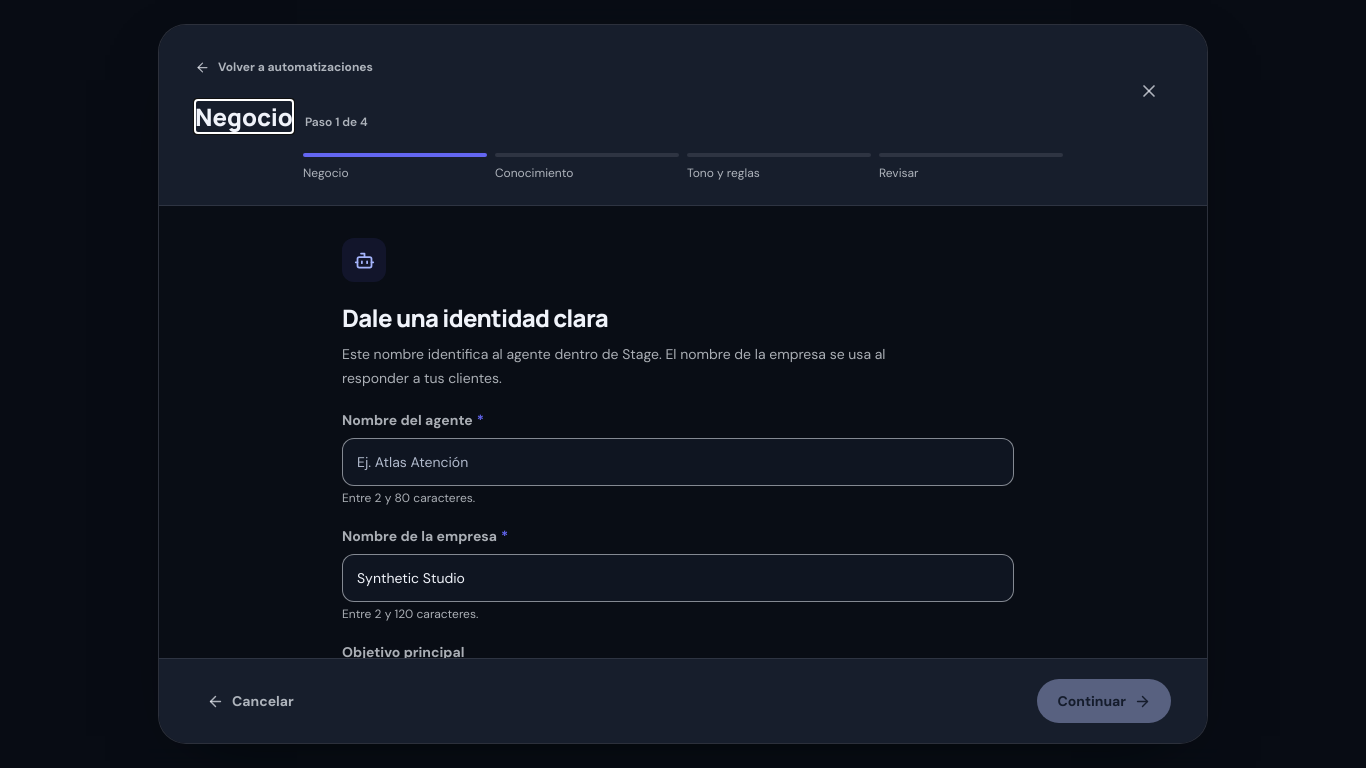
Test case: real component, synthetic services only › gates required fields and has exactly four steps without choosing/connecting channels
Earlier steps of the test are not shown.
Later steps or results of the test are not shown.
Expected: the button "Continuar" is disabled, [1037,679,1171,723]
In the field labelled "Nombre del agente* Entre 2 y 80 caracteres.": (678, 462) [342,438,1014,486], type "Synthetic Agent"
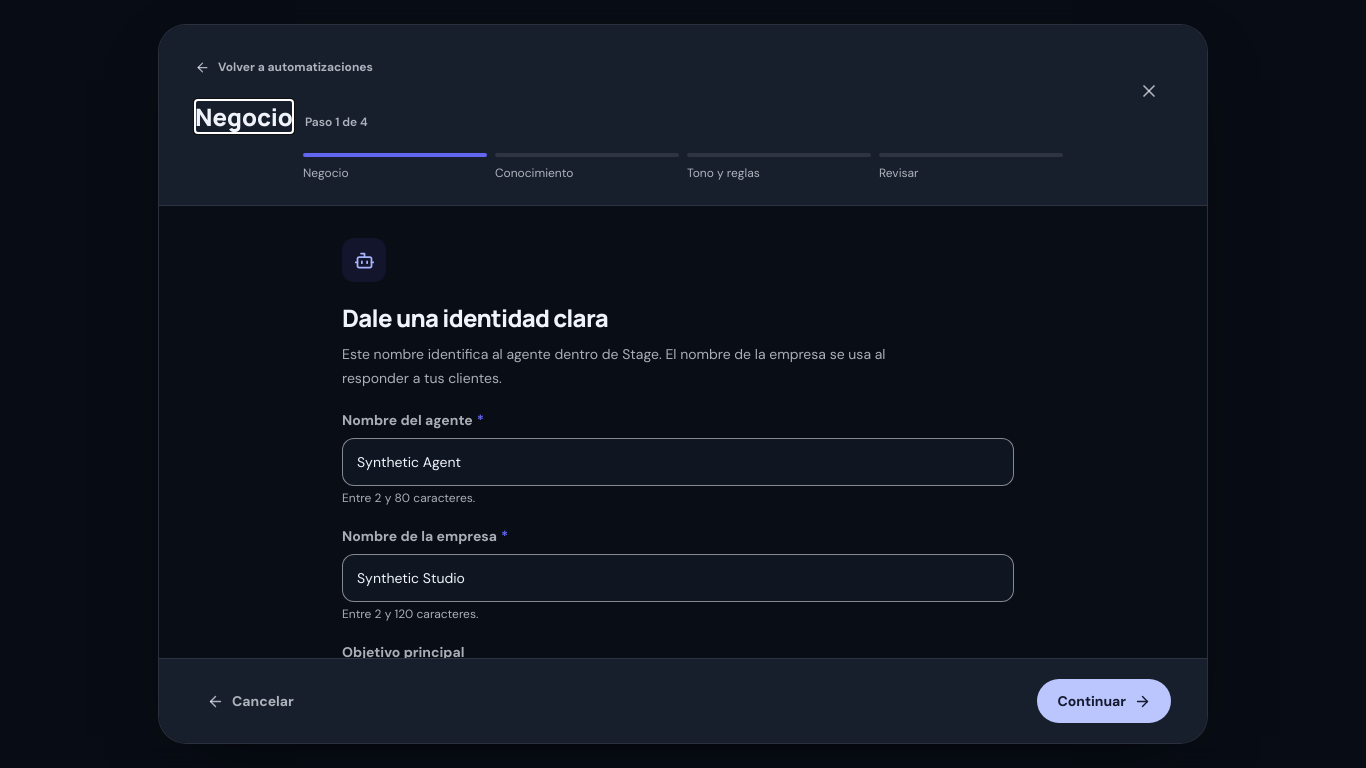
Click the button "Continuar": (1104, 701) [1037,679,1171,723]
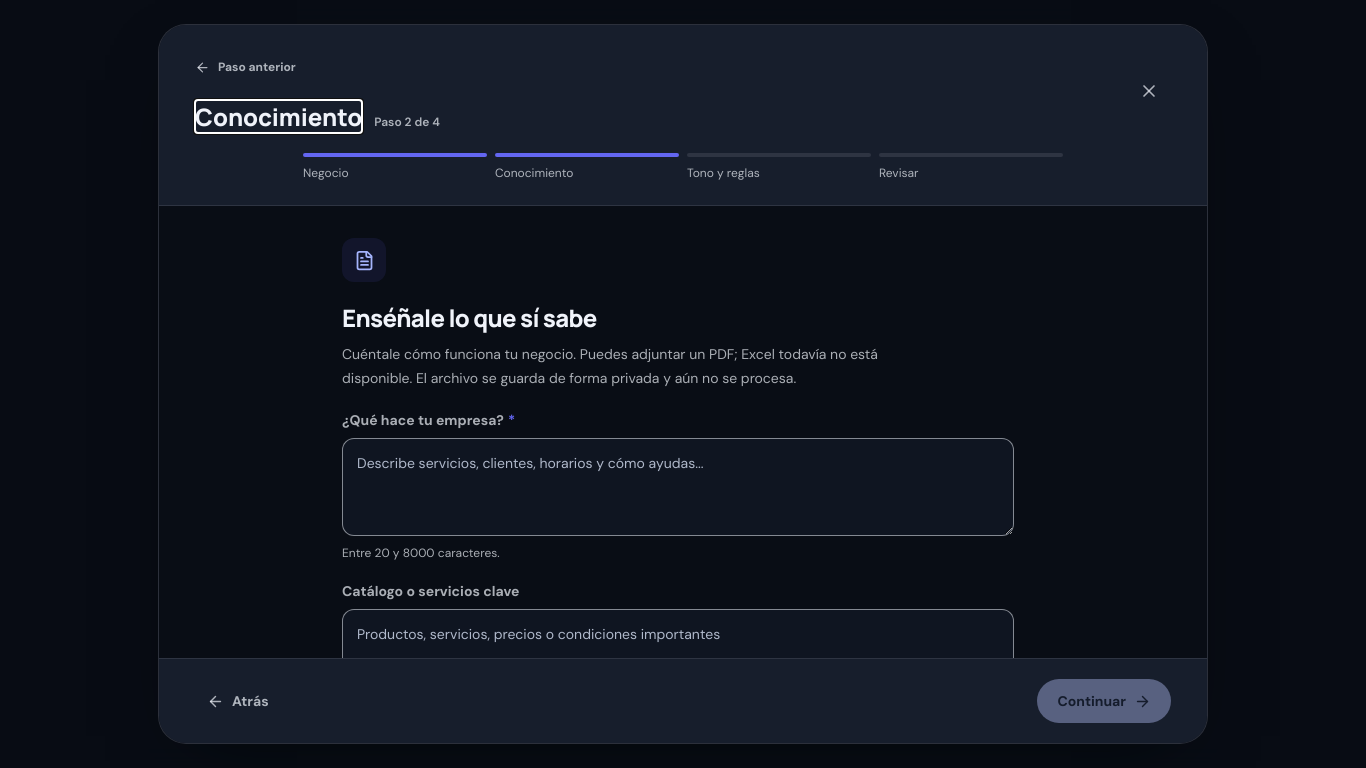
Expected: the button "Continuar" is disabled, [1037,679,1171,723]
In the text box labelled "¿Qué hace tu empresa?* Entre 20 y 8000 caracteres.": (678, 487) [342,438,1014,536], type "short"
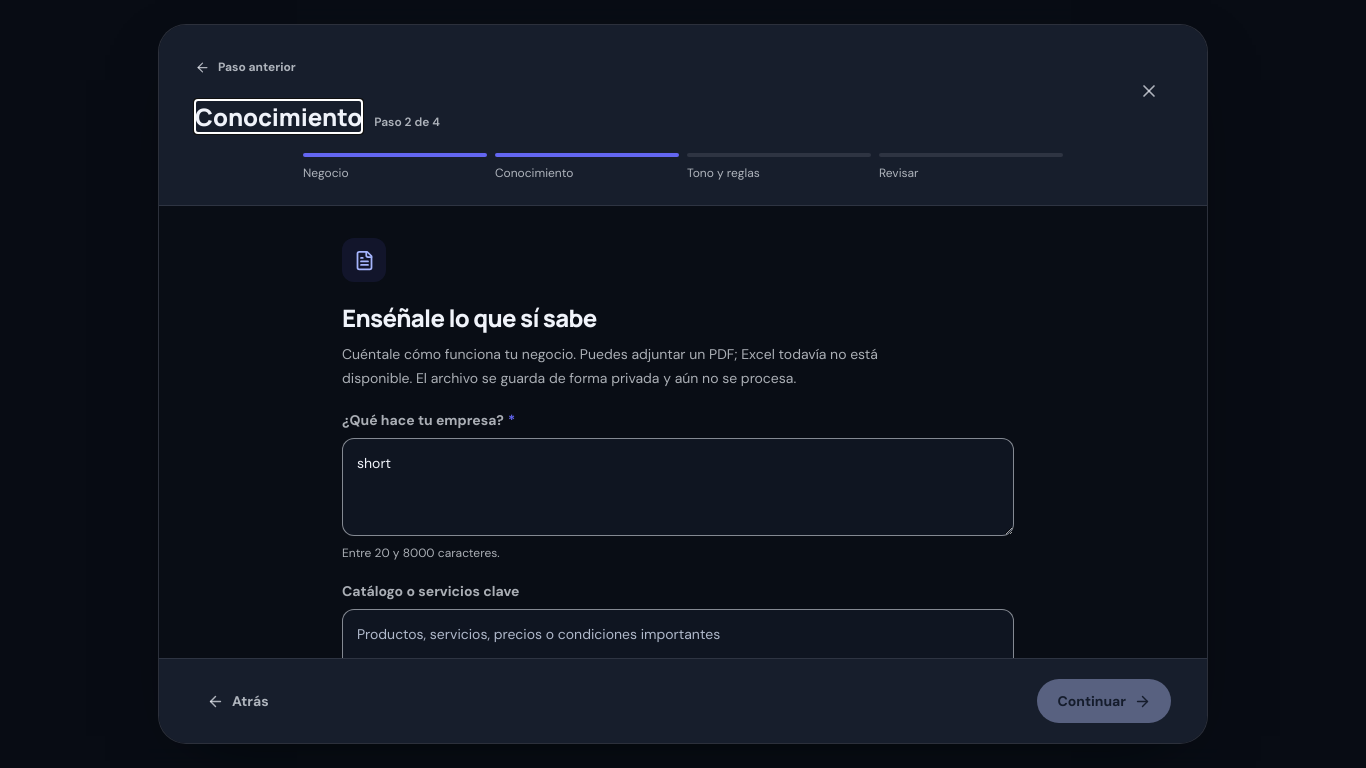
Expected: the button "Continuar" is disabled, [1037,679,1171,723]
Replace the text in the text box labelled "¿Qué hace tu empresa?* Entre 20 y 8000 caracteres." with "Synthetic description of a business.": (678, 487) [342,438,1014,536]
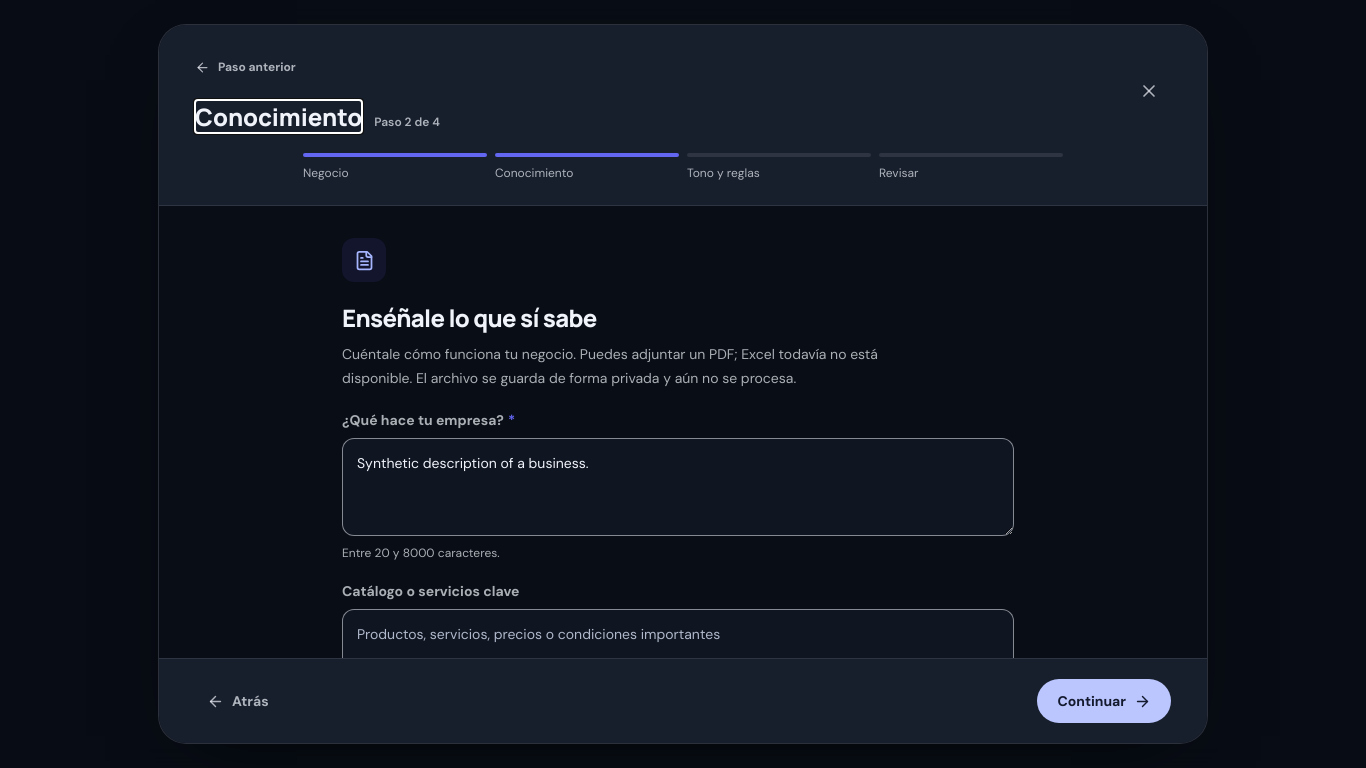
Click the button "Continuar": (1104, 701) [1037,679,1171,723]
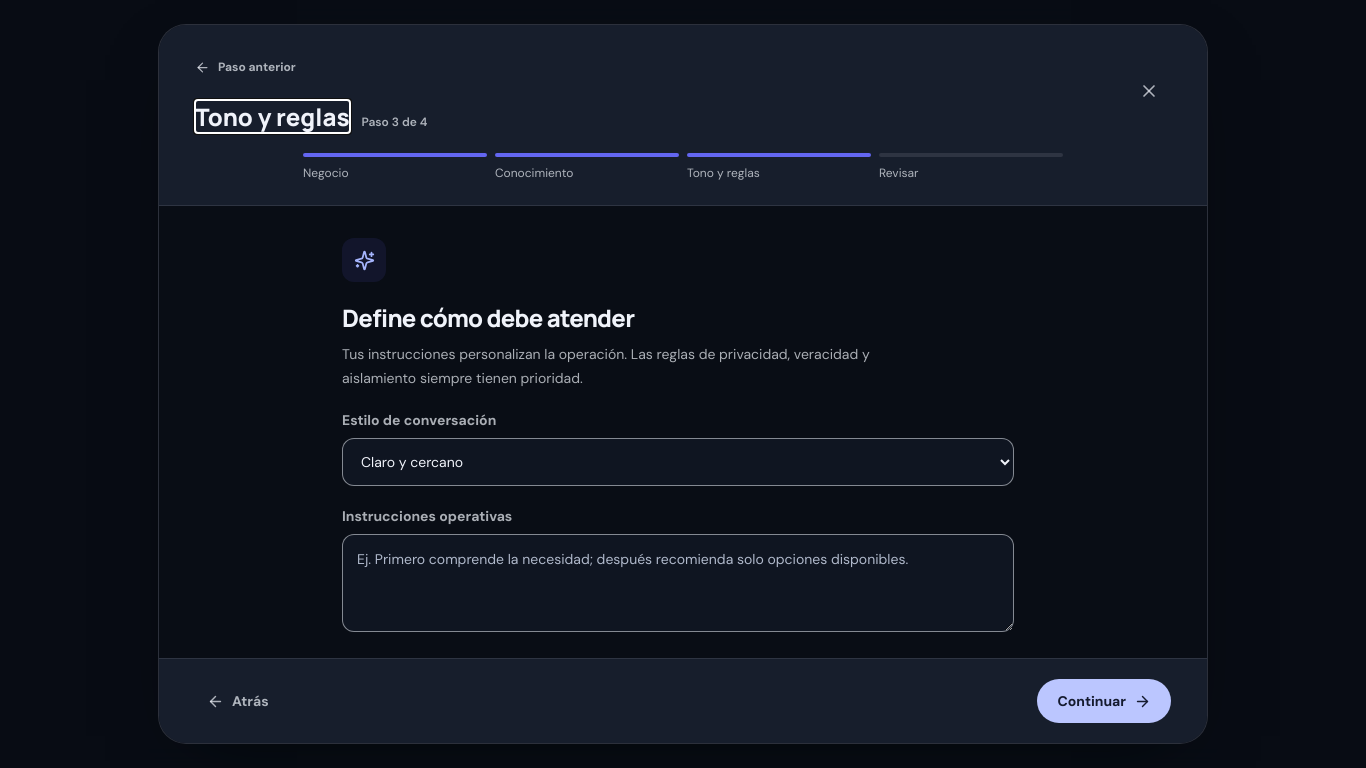
Click the button "Continuar": (1104, 701) [1037,679,1171,723]
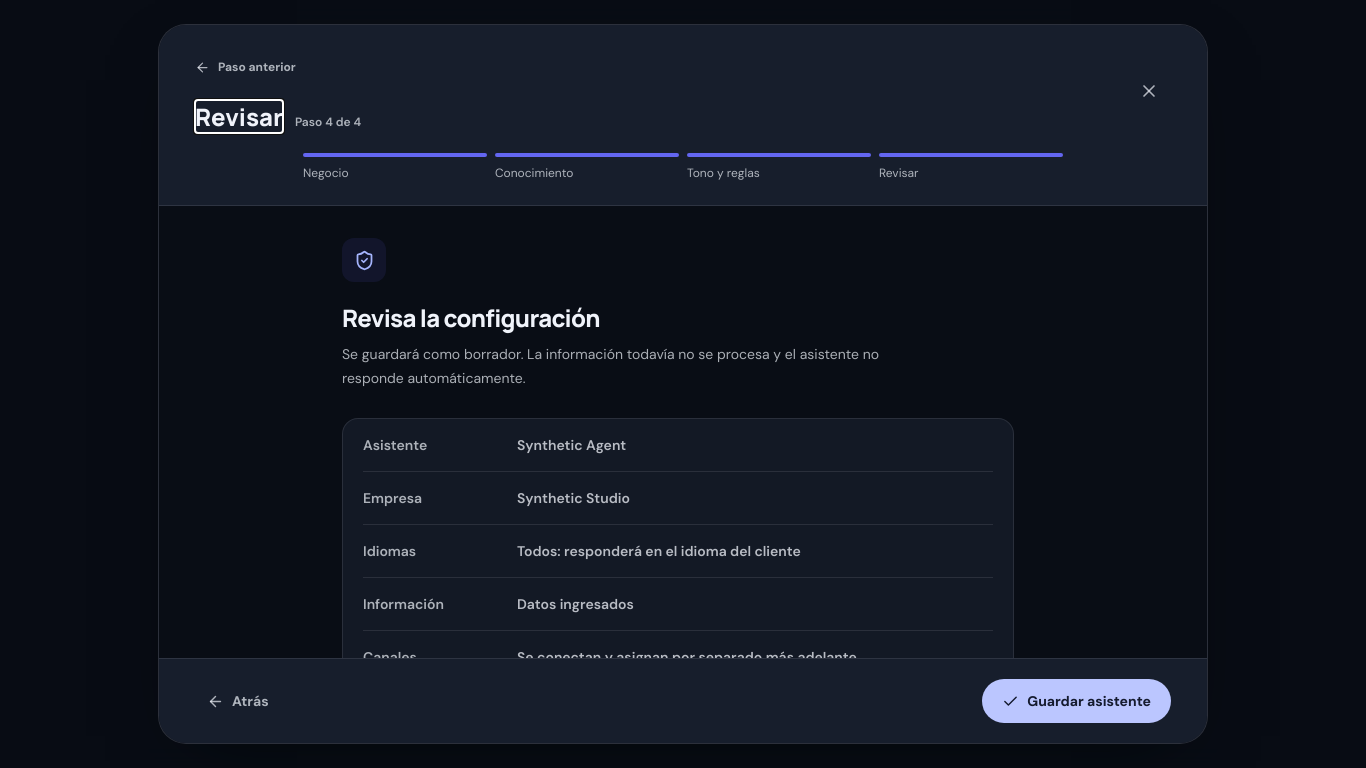
Expected: the text "Paso 4 de 4" is shown, [295,114,361,130]
